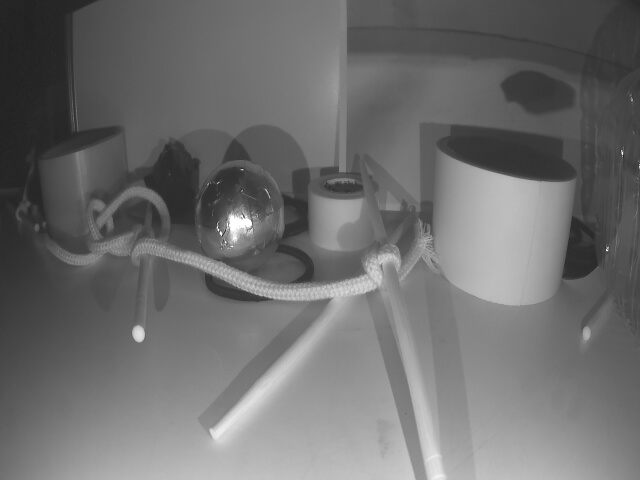Live: (199, 161, 281, 275)
